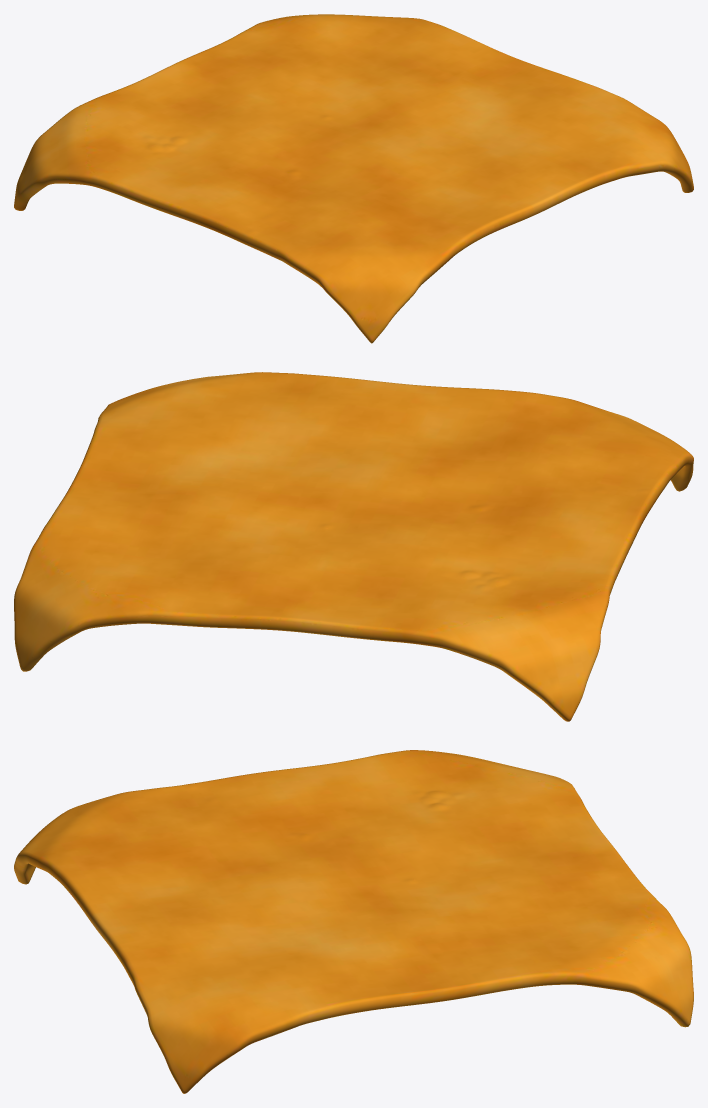
The model's file is cheese_cheddar.glb.
The picture shows the model from 3 angles, top to bottom: view 1: azimuth 30°, elevation 25°; view 2: azimuth 150°, elevation 25°; view 3: azimuth 270°, elevation 25°; orthographic projection. The views are drawn at different scales.
Visible parts, largest first — view 1: cheese_cheddar_web; view 2: cheese_cheddar_web; view 3: cheese_cheddar_web.
Part boxes in pixels (x1,y1,x2,y2): cheese_cheddar_web: [14, 14, 693, 343]; cheese_cheddar_web: [14, 372, 693, 721]; cheese_cheddar_web: [14, 750, 693, 1093].
Size of the model in its own units: 0.1108 by 0.0142 by 0.1108.
Materials: 1 (1 with a texture image).
